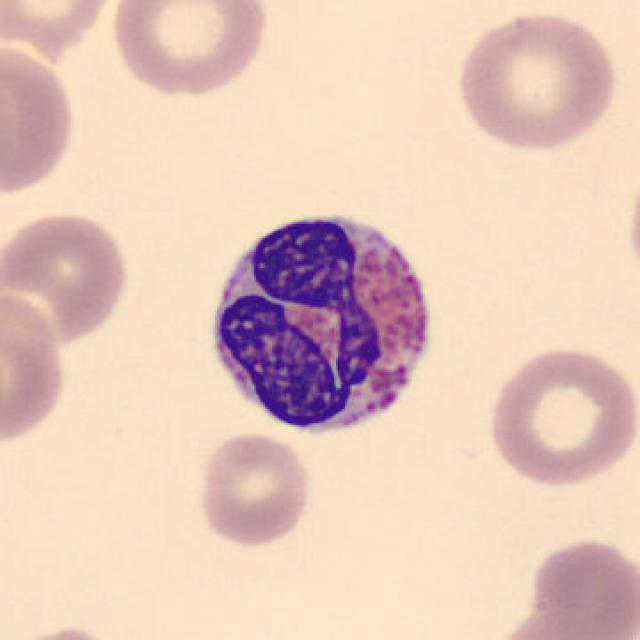Eosinophil: (196, 197, 448, 448)
RBC: (450, 7, 622, 155), (484, 342, 638, 490), (0, 206, 133, 349), (105, 0, 274, 100), (192, 429, 315, 550), (0, 37, 80, 199), (524, 532, 638, 640), (0, 283, 69, 449), (0, 0, 121, 56), (481, 606, 629, 640), (624, 153, 640, 300), (4, 622, 130, 640)
